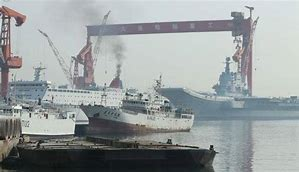smoke: (108, 35, 126, 75)
